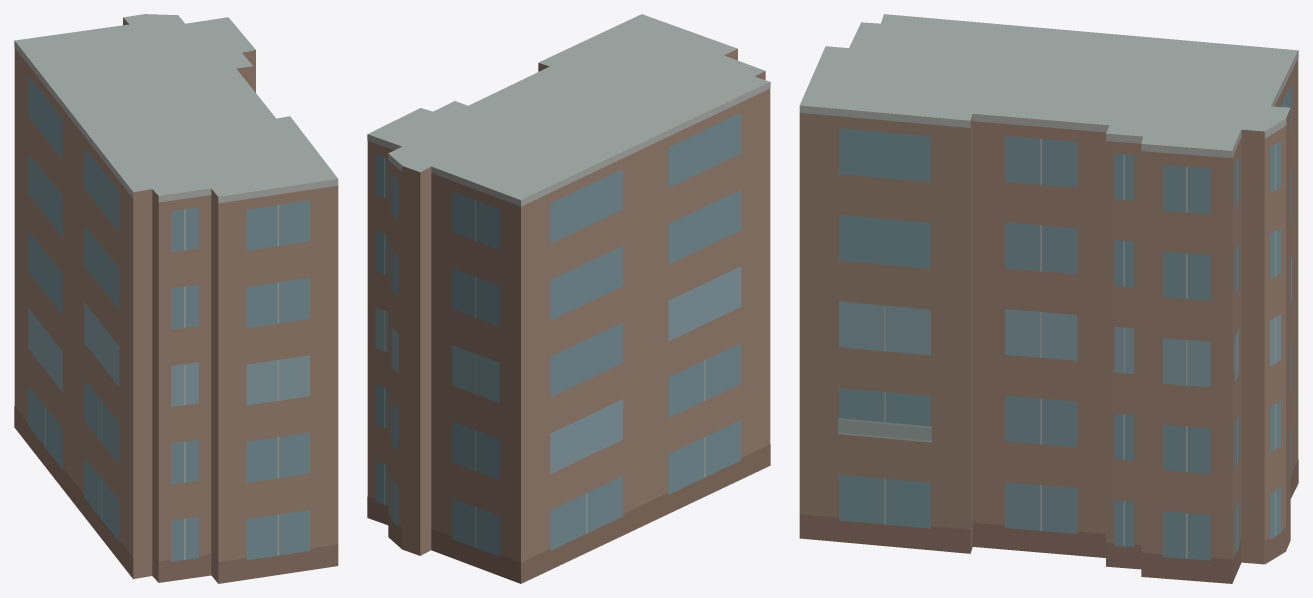
File: survey-upis-32941748.glb
The picture shows the model from 3 angles, left to right: view 1: azimuth 30°, elevation 25°; view 2: azimuth 150°, elevation 25°; view 3: azimuth 270°, elevation 25°; orthographic projection. The views are drawn at different scales.
Visible parts, largest first — view 1: survey-upis-32941748.tmp; view 2: survey-upis-32941748.tmp; view 3: survey-upis-32941748.tmp.
Part boxes in pixels (x1=…): survey-upis-32941748.tmp: x1=14, y1=14, x2=338, y2=583; survey-upis-32941748.tmp: x1=367, y1=14, x2=770, y2=583; survey-upis-32941748.tmp: x1=799, y1=14, x2=1298, y2=583.
Size of the model in its own units: 9.84 by 14.5 by 15.15.
